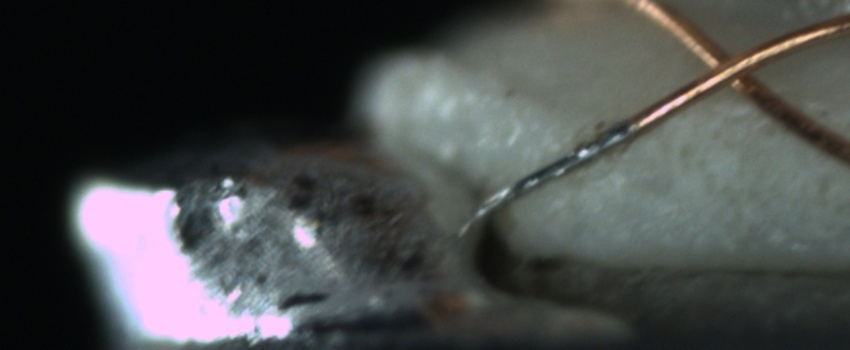CL: (681, 24, 780, 105)
TS: (482, 119, 636, 217)
TTCW: (481, 78, 717, 224)
